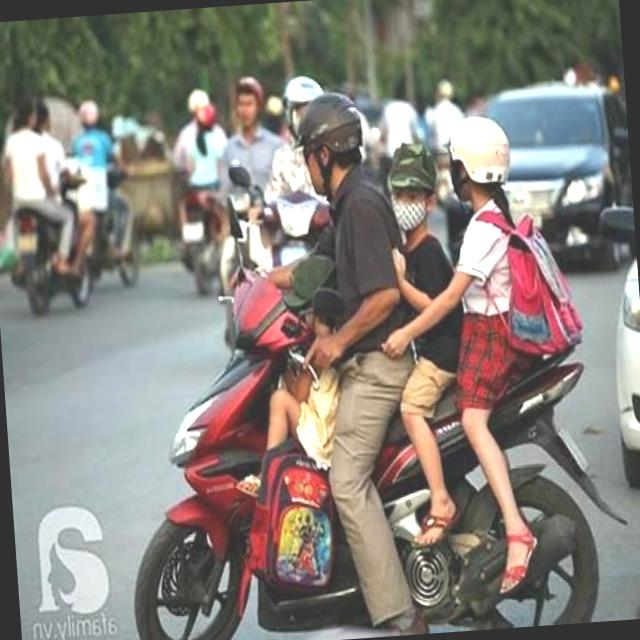motorcycle: (105, 258, 637, 640)
person: (290, 79, 424, 566), (422, 105, 537, 532), (373, 127, 472, 483), (230, 270, 363, 532)
rider_region: (95, 72, 606, 640)
